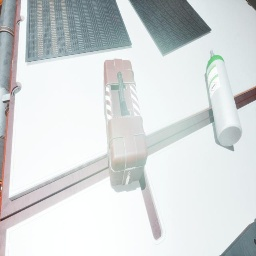0: (206, 50, 242, 146)
FirstAidBox ,: (103, 59, 148, 186)
